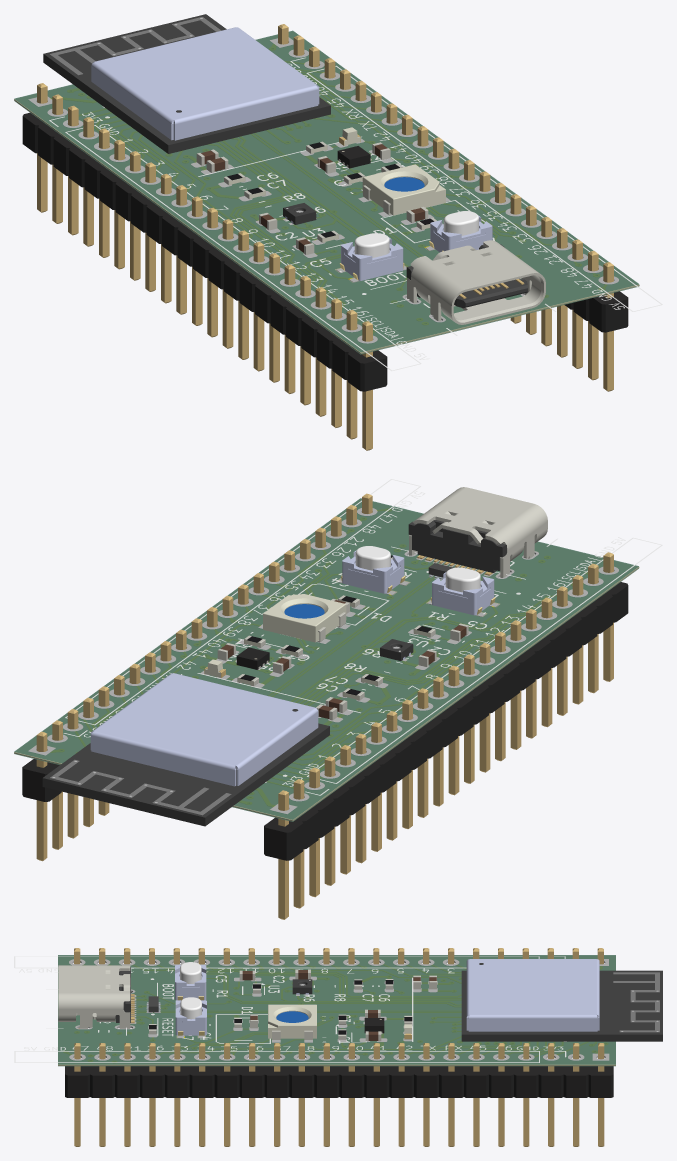
The model's file is 3drender.glb.
The picture shows the model from 3 angles, top to bottom: view 1: azimuth 30°, elevation 25°; view 2: azimuth 150°, elevation 25°; view 3: azimuth 270°, elevation 25°; orthographic projection. The views are drawn at different scales.
Parts seen in each view (by area): view 1: =>[0:1:1:30], =>[0:1:1:19] (×2), =>[0:1:1:32], =>[0:1:1:21], =>[0:1:1:23], =>[0:1:1:29], =>[0:1:1:27], =>[0:1:1:7] (×2), =>[0:1:1:26], =>[0:1:1:25], =>[0:1:1:31]; view 2: =>[0:1:1:30], =>[0:1:1:19] (×2), =>[0:1:1:32], =>[0:1:1:21], =>[0:1:1:23], =>[0:1:1:27], =>[0:1:1:29], =>[0:1:1:7] (×2), =>[0:1:1:26], =>[0:1:1:25]; view 3: =>[0:1:1:30], =>[0:1:1:19] (×2), =>[0:1:1:32], =>[0:1:1:21], =>[0:1:1:29], =>[0:1:1:23], =>[0:1:1:27], =>[0:1:1:7] (×2), =>[0:1:1:26], =>[0:1:1:25], =>[0:1:1:31], =>[0:1:1:11].
Boxes of the visible parts, box(x1,y1,x2,y2) form: =>[0:1:1:30]: box(14, 30, 638, 352); =>[0:1:1:19] (×2): box(22, 24, 628, 450); =>[0:1:1:32]: box(14, 32, 639, 353); =>[0:1:1:21]: box(43, 14, 330, 153); =>[0:1:1:23]: box(406, 240, 545, 324); =>[0:1:1:29]: box(49, 57, 662, 371); =>[0:1:1:27]: box(28, 37, 618, 343); =>[0:1:1:7] (×2): box(339, 211, 492, 280); =>[0:1:1:26]: box(50, 44, 606, 333); =>[0:1:1:25]: box(362, 164, 445, 215); =>[0:1:1:31]: box(14, 101, 639, 354); =>[0:1:1:30]: box(14, 498, 638, 819); =>[0:1:1:19] (×2): box(22, 493, 628, 919); =>[0:1:1:32]: box(14, 499, 639, 821); =>[0:1:1:21]: box(42, 673, 329, 826); =>[0:1:1:23]: box(408, 487, 547, 577); =>[0:1:1:27]: box(28, 508, 618, 814); =>[0:1:1:29]: box(63, 479, 662, 795); =>[0:1:1:7] (×2): box(341, 546, 495, 615); =>[0:1:1:26]: box(51, 509, 587, 806); =>[0:1:1:25]: box(263, 594, 346, 642); =>[0:1:1:30]: box(58, 955, 615, 1064); =>[0:1:1:19] (×2): box(65, 948, 613, 1146); =>[0:1:1:32]: box(58, 956, 615, 1065); =>[0:1:1:21]: box(461, 959, 662, 1041); =>[0:1:1:29]: box(14, 956, 566, 1062); =>[0:1:1:23]: box(58, 965, 134, 1028); =>[0:1:1:27]: box(69, 959, 609, 1060); =>[0:1:1:7] (×2): box(175, 962, 206, 1035); =>[0:1:1:26]: box(64, 965, 607, 1061); =>[0:1:1:25]: box(268, 1004, 316, 1039); =>[0:1:1:31]: box(58, 1066, 615, 1066); =>[0:1:1:11]: box(292, 979, 312, 994).
Size of the model in its own units: 0.0264 by 0.0133 by 0.0661.
